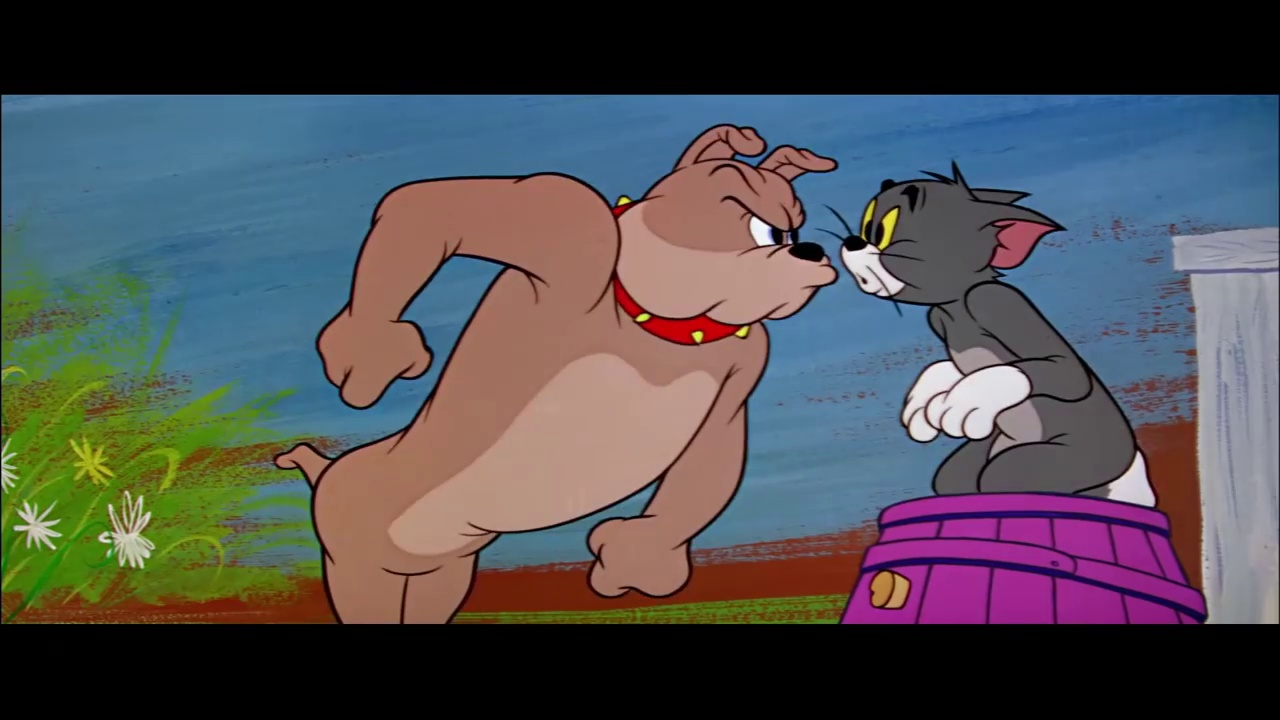spike: (605, 122, 840, 348)
tom: (839, 156, 1078, 319)
